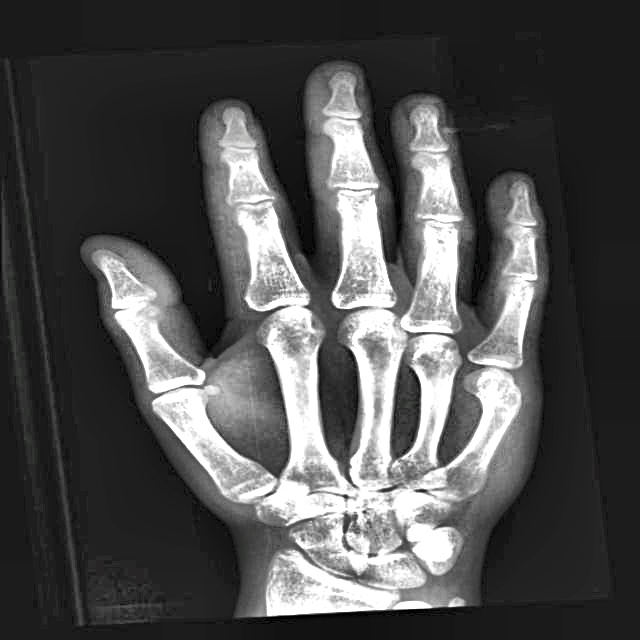Healthy: (132, 159, 561, 539)
